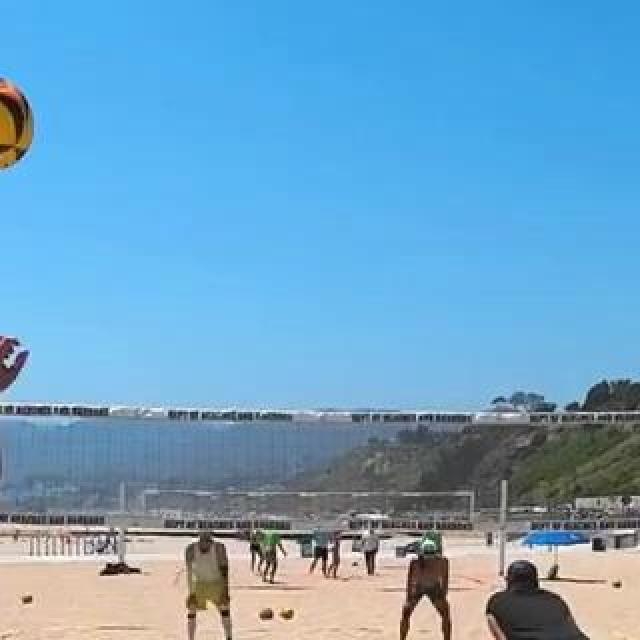volleyball: (0, 82, 34, 168), (281, 605, 295, 621), (259, 607, 273, 621), (20, 591, 34, 605), (613, 579, 623, 589)
